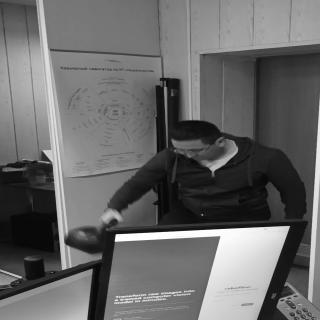girya: (63, 219, 120, 255)
